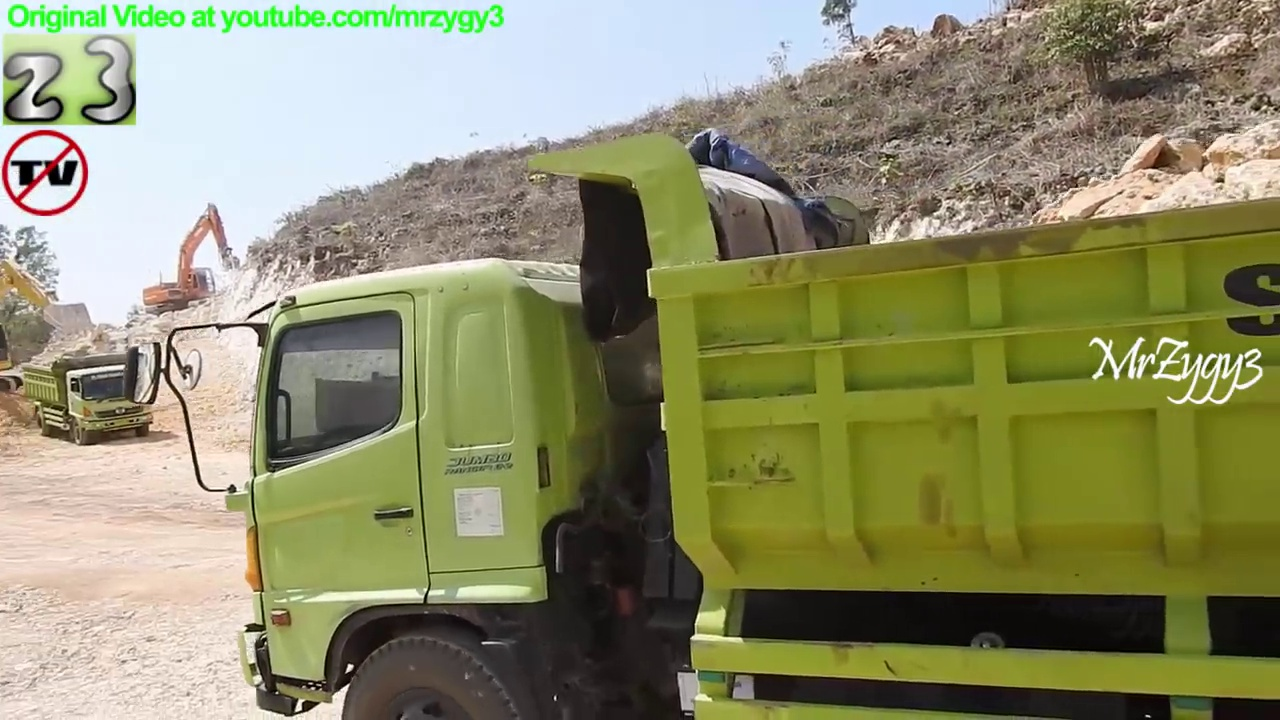excavator: (1, 244, 96, 407), (137, 200, 246, 323)
truck: (117, 126, 1280, 720), (16, 344, 161, 451)
